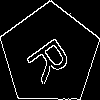R: (24, 29, 80, 86)
